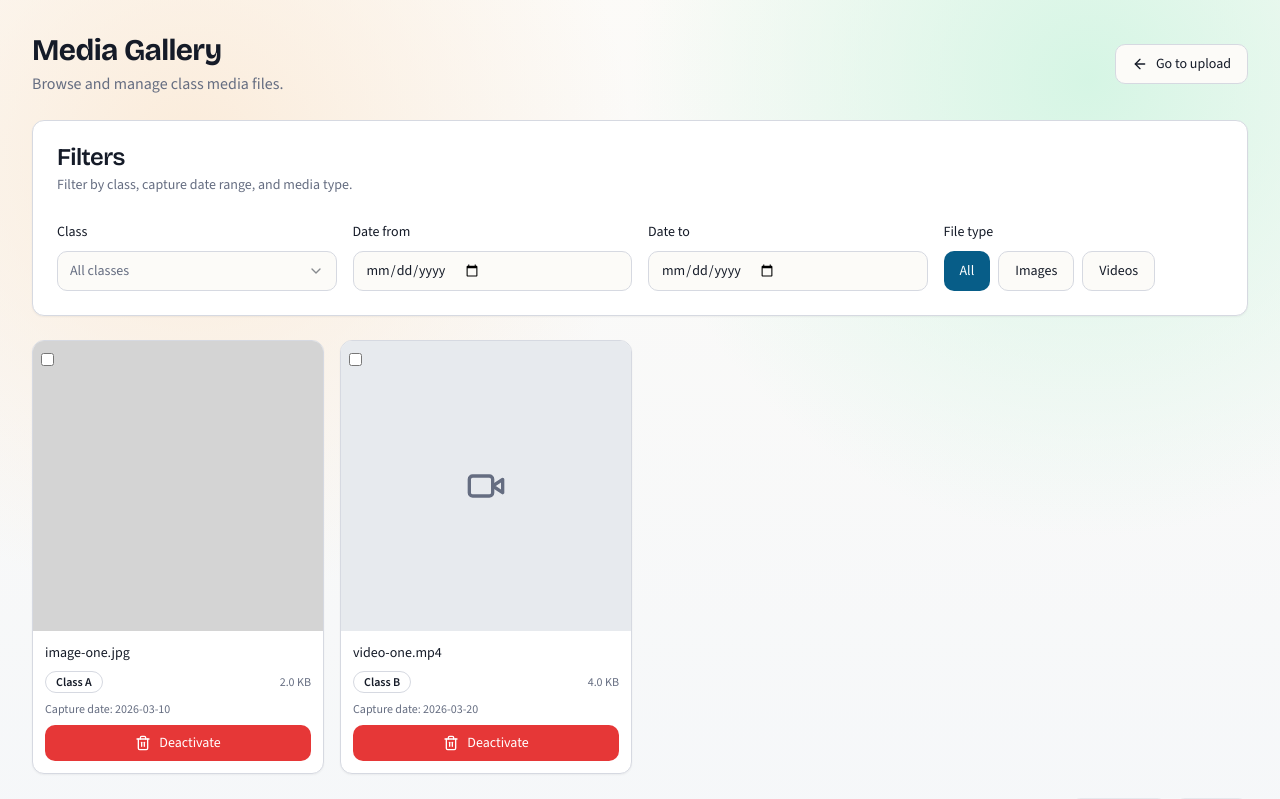
Test case: MediaGalleryPage › deactivates a single media item and removes card
Expected: the text "image-one.jpg" is shown, 45,643 -> 130,662
Click the button "Deactivate" below "2026-03-10": [178, 743] box 45,725 -> 311,761
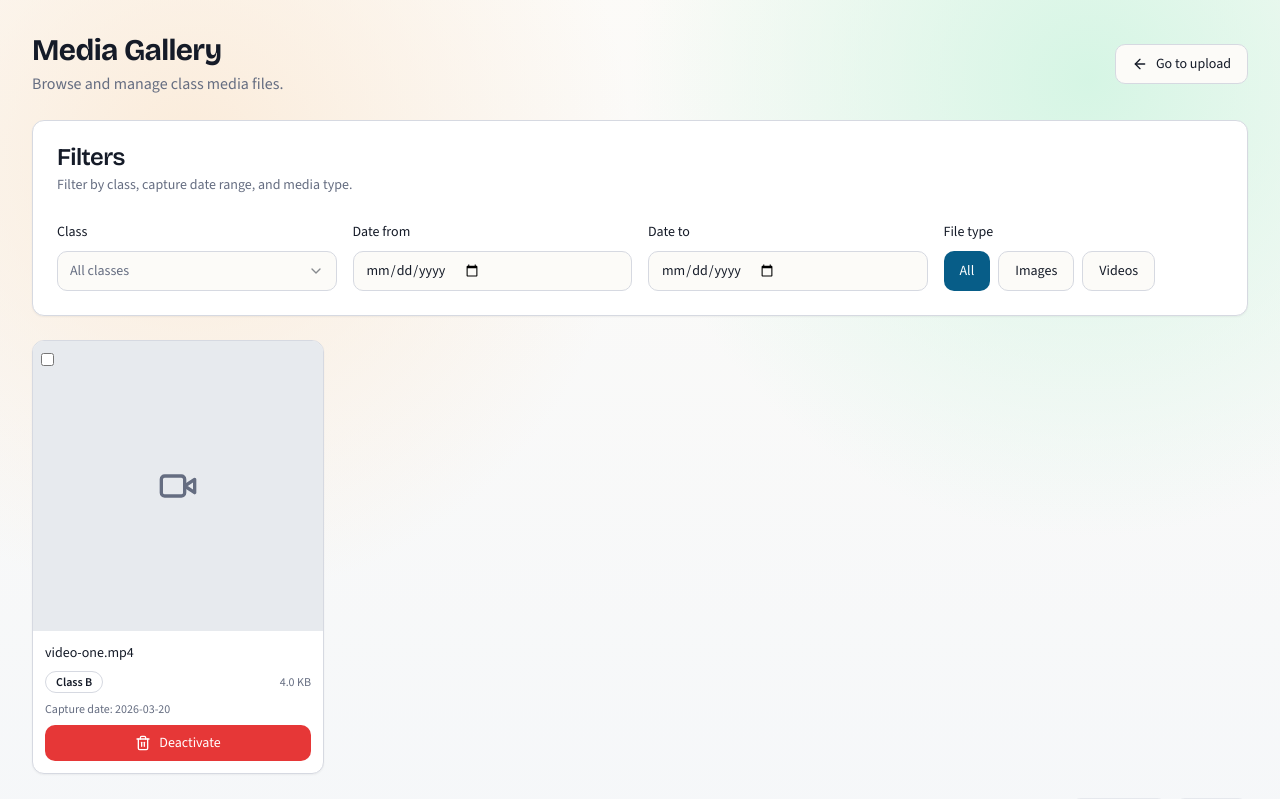
Now the text "image-one.jpg" is gone
